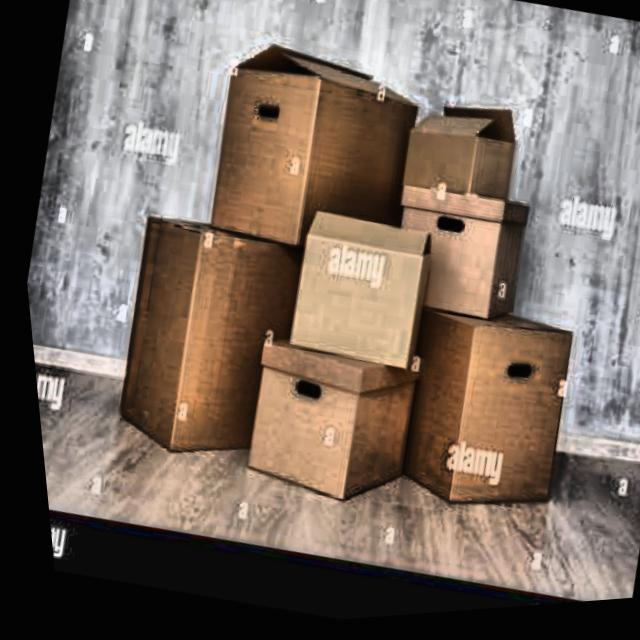Cardbox: (73, 180, 322, 499), (169, 25, 437, 307), (191, 300, 447, 541), (366, 285, 584, 547), (238, 189, 454, 388), (357, 167, 543, 346), (382, 59, 538, 209)
